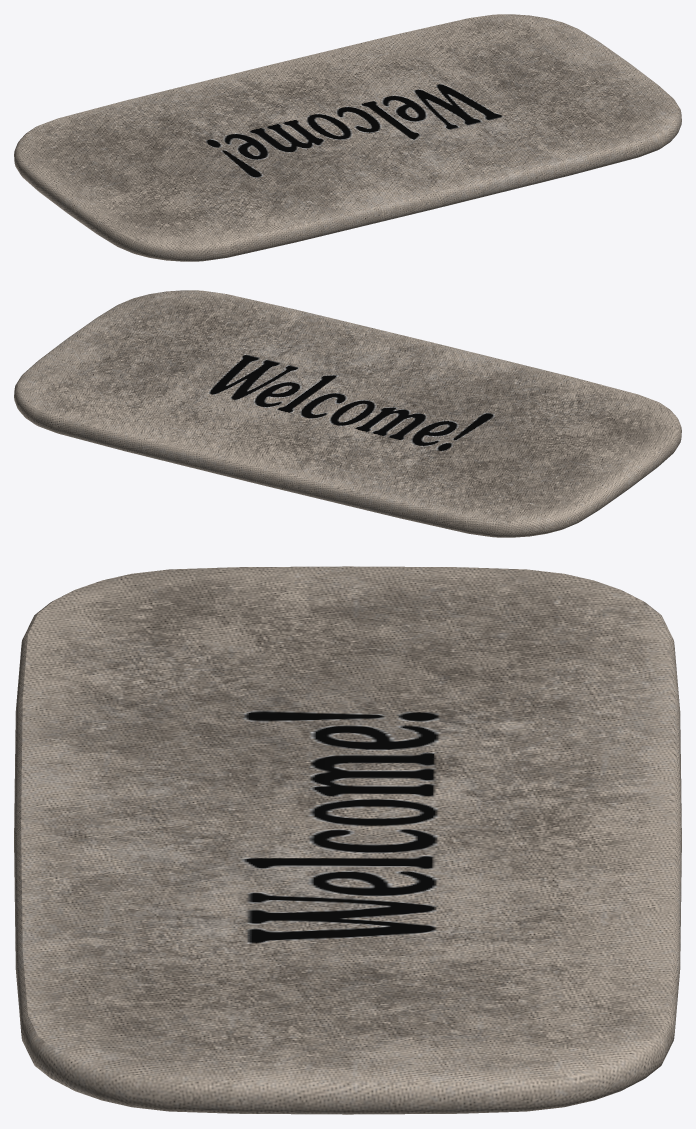
File: welcome_mat.glb
3 views of the same model, one above another, from view 1: azimuth 30°, elevation 25°; view 2: azimuth 150°, elevation 25°; view 3: azimuth 270°, elevation 25° (orthographic). The views are drawn at different scales.
Parts seen in each view (by area): view 1: WelcomeMat_low; view 2: WelcomeMat_low; view 3: WelcomeMat_low.
Boxes of the visible parts, x1=… form: WelcomeMat_low: x1=14, y1=14, x2=681, y2=261; WelcomeMat_low: x1=14, y1=290, x2=681, y2=537; WelcomeMat_low: x1=14, y1=566, x2=681, y2=1114.
Bounding box in the file's own units: 0.9403 × 0.028 × 0.5056.
1 material, 1 textured.
